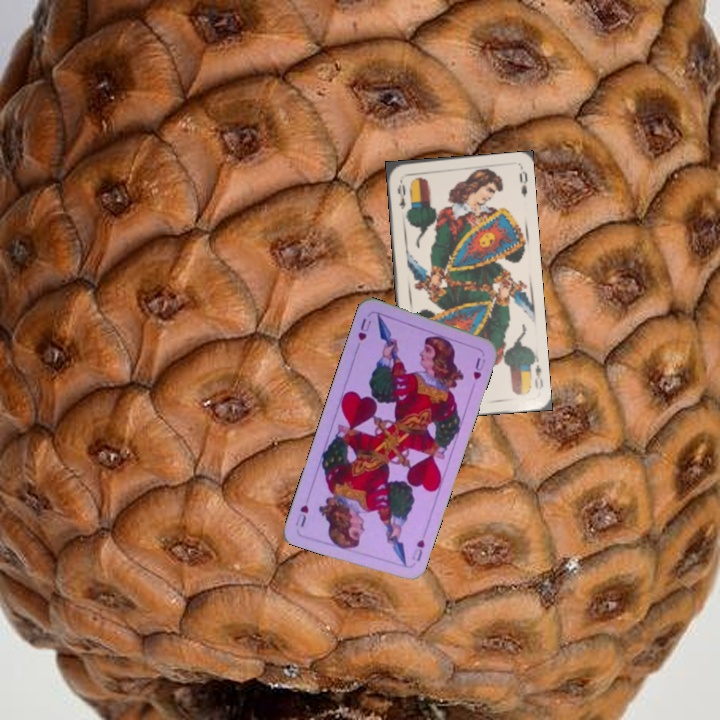EO: (525, 354, 545, 392), (393, 175, 408, 211)
HU: (354, 314, 374, 343), (408, 535, 427, 564)
